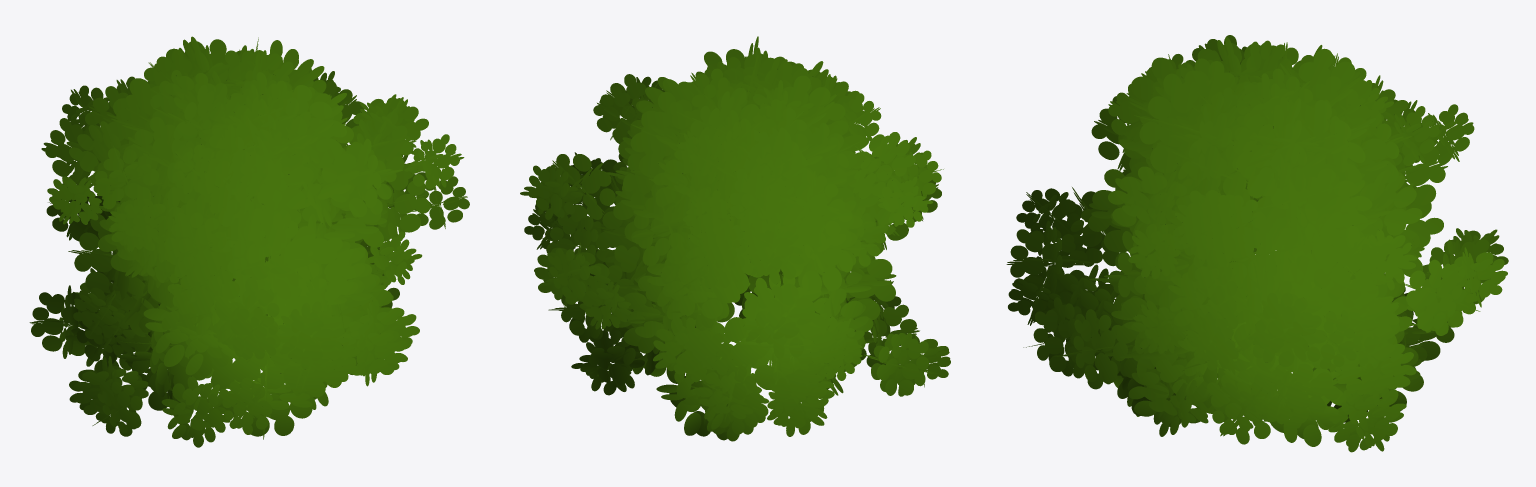
File: nature_bush_large.glb
3 renders of one model, left to right at view 1: azimuth 30°, elevation 25°; view 2: azimuth 150°, elevation 25°; view 3: azimuth 270°, elevation 25°, orthographic. The views are drawn at different scales.
Visible parts, largest first — view 1: nature_bush_large; view 2: nature_bush_large; view 3: nature_bush_large.
Boxes of the visible parts, <box> form: nature_bush_large: <box>29,36,469,447</box>; nature_bush_large: <box>520,36,950,441</box>; nature_bush_large: <box>1006,35,1508,452</box>.
Size of the model in its own units: 360 by 325 by 367.
Materials: 1 (1 with a texture image).
